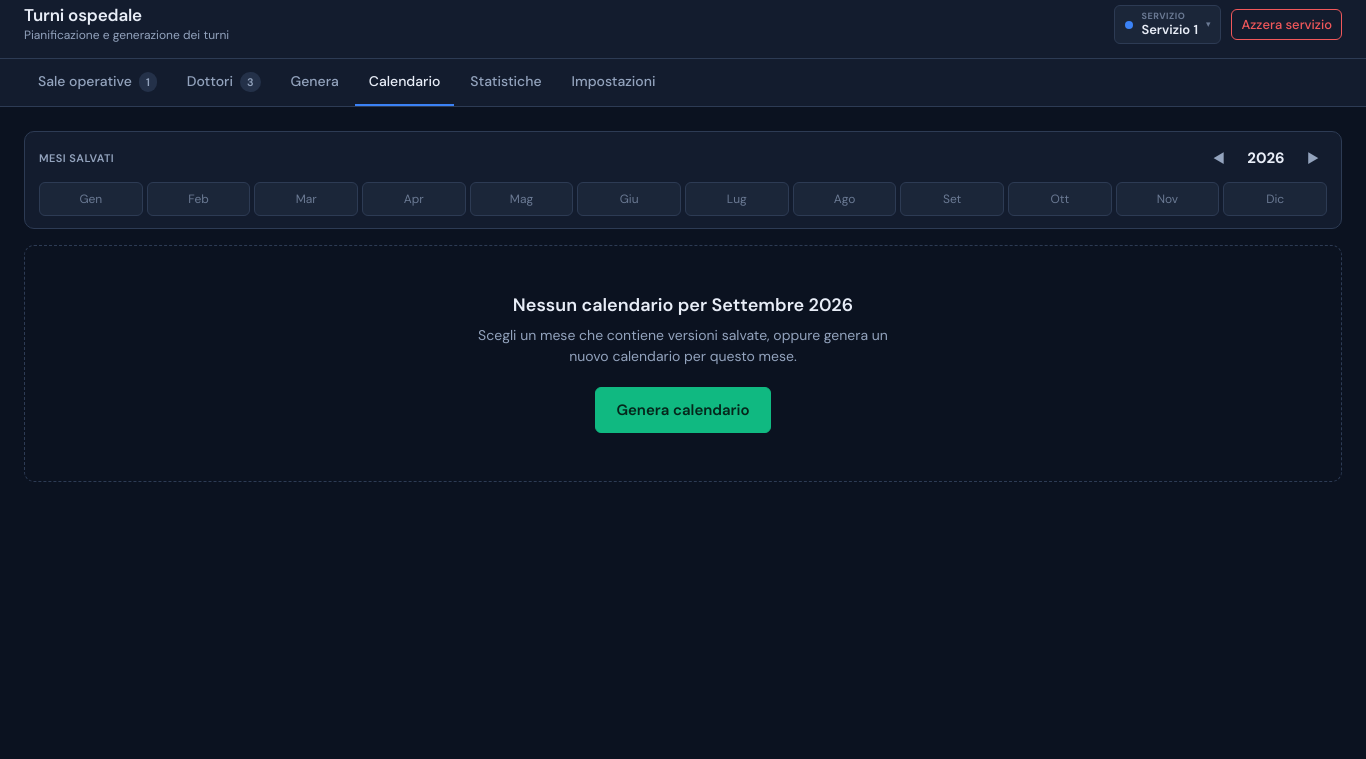
it: generazione e calendario › genera un calendario e lo mostra nel calendario mensile
This screenshot has width=1366, height=759.
Click the button "Genera" at (315, 83), box [276,59,353,106]
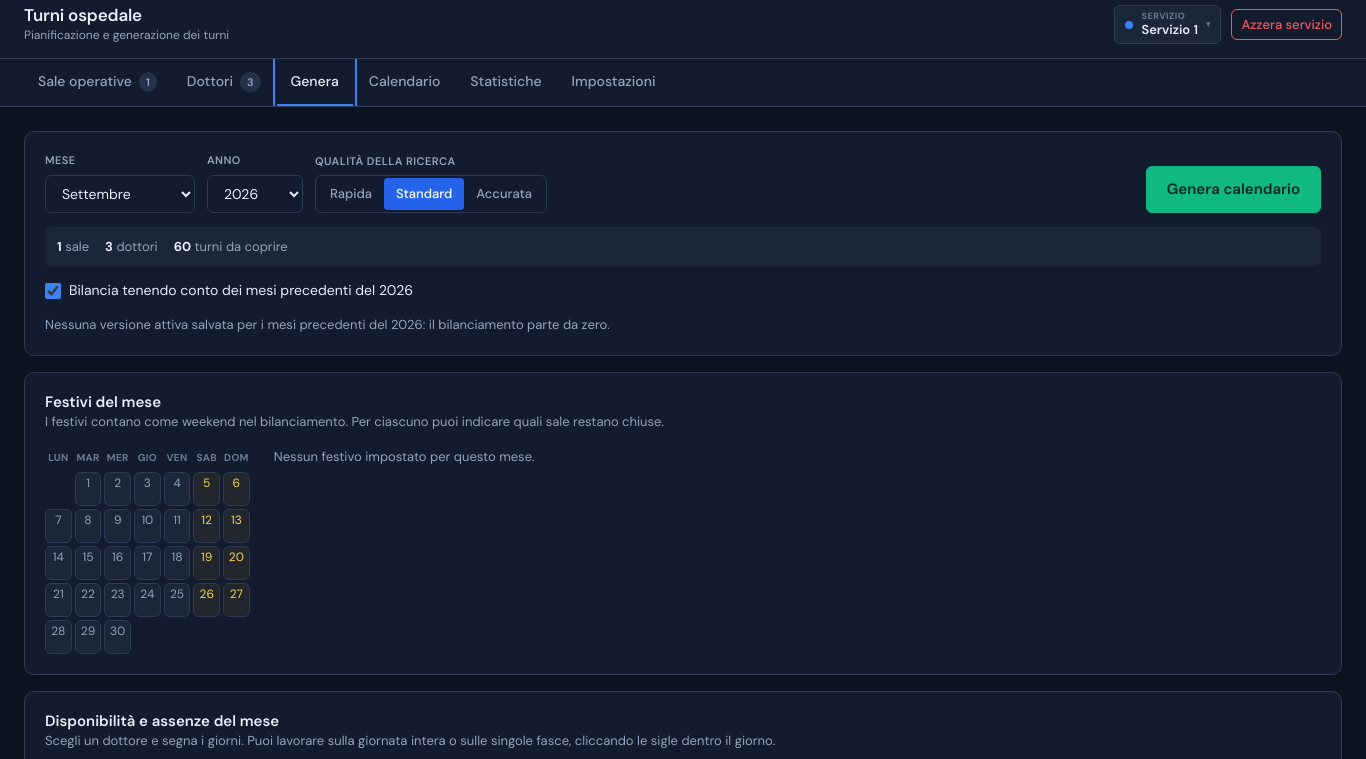
Check: the text "60 turni da coprire" is shown, box [174,237,288,256]
Click the button "Genera calendario" at (1233, 190), box [1146,166,1321,213]
(page scrolled)
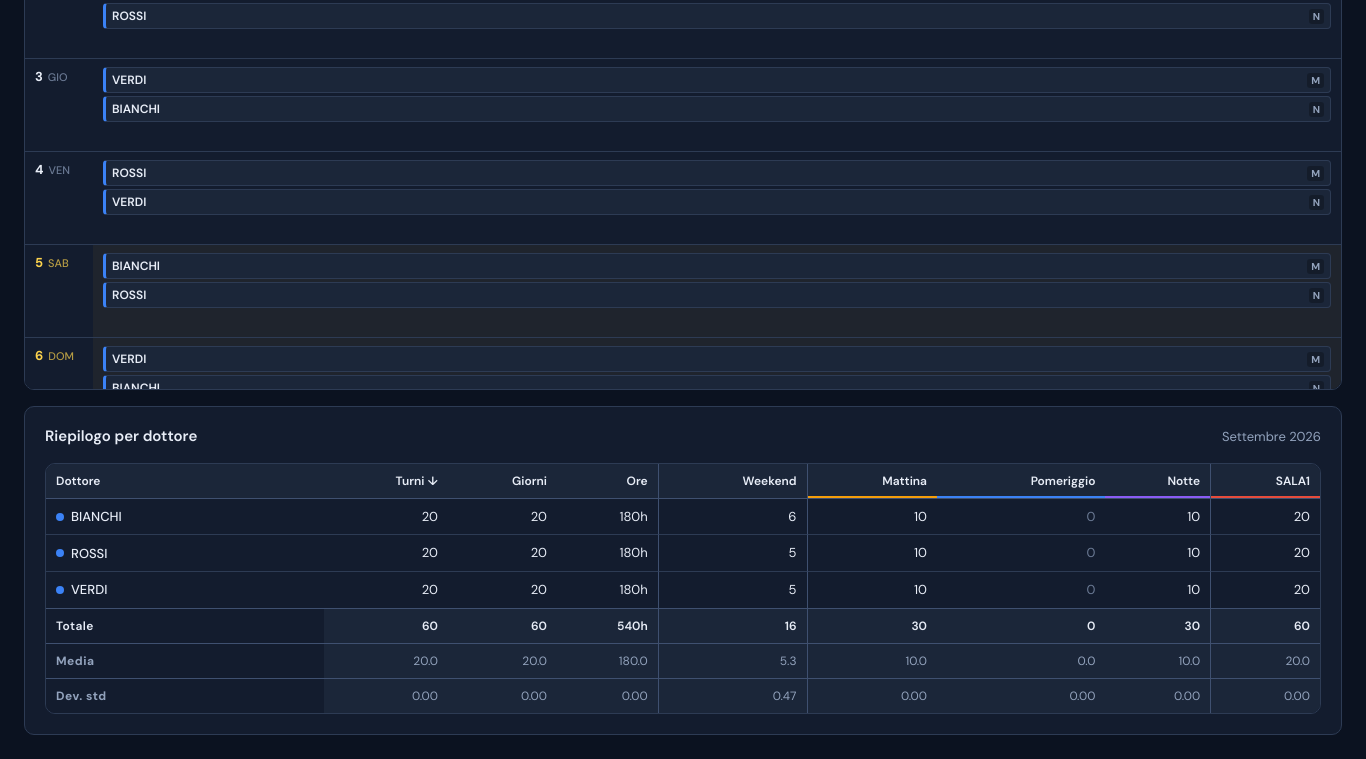
Check: the heading "Riepilogo per dottore" is shown, box [45,428,197,446]
